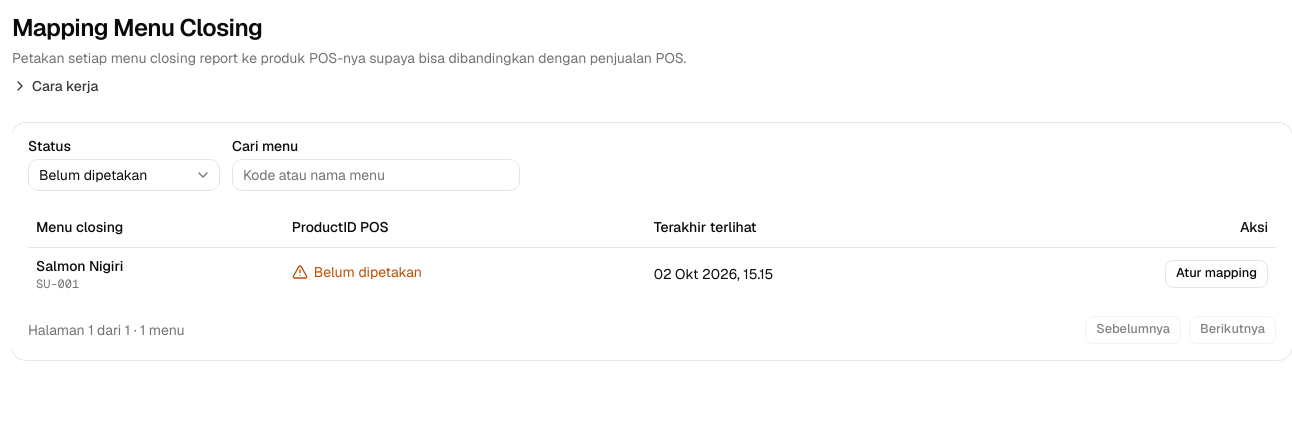
Test: ClosingMenusView — daftar › status semua menampilkan ringkasan mapping
Check: the text "Salmon Nigiri" is shown, box left=36, top=256, right=123, bottom=274
Click the dropdown named "status": (124, 175) left=28, top=159, right=220, bottom=191
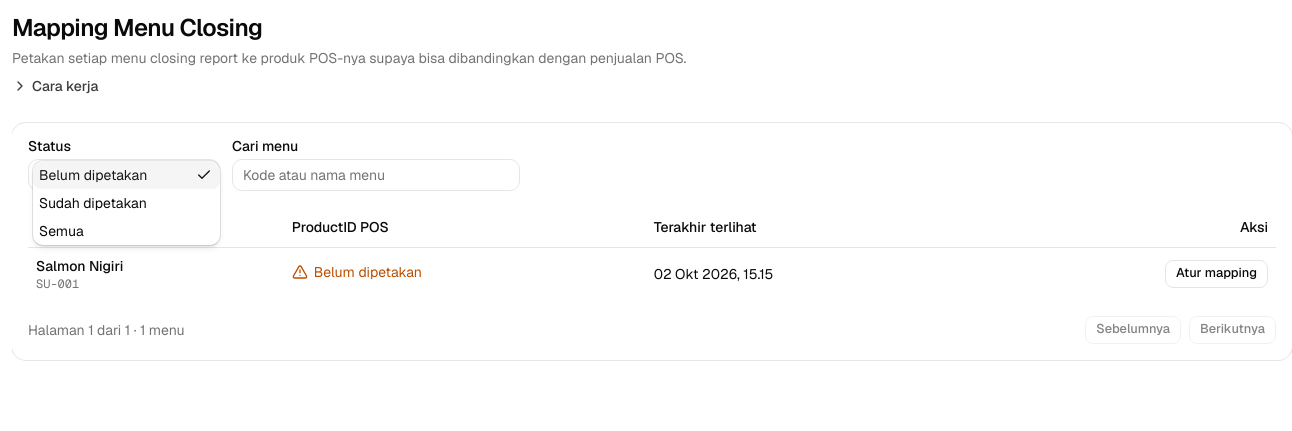
Click the option "Semua": (61, 231) left=39, top=222, right=84, bottom=240
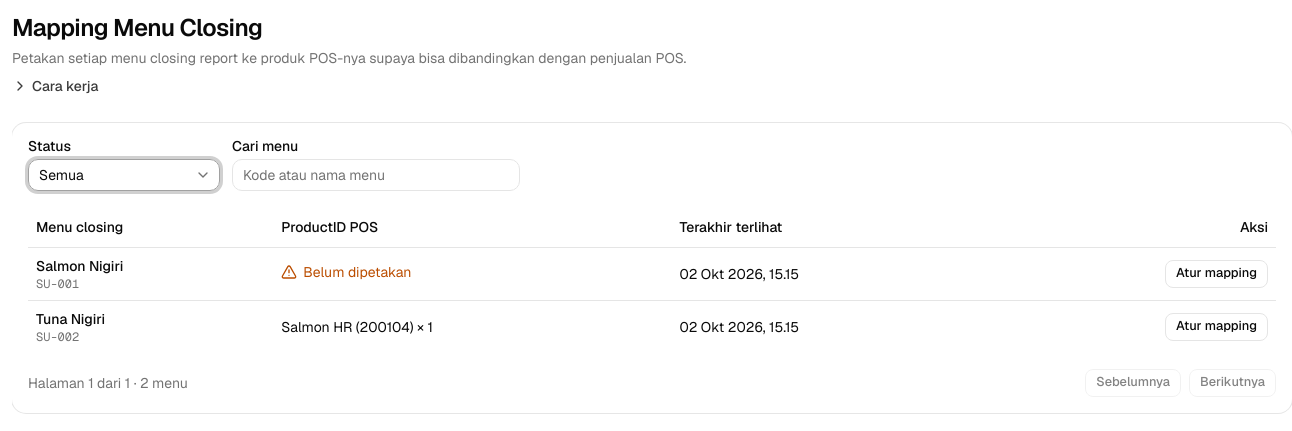
Check: the text "Belum dipetakan" is shown, box left=281, top=262, right=412, bottom=282
Check: the text "Salmon HR (200104) × 1" is shown, box left=281, top=318, right=433, bottom=336
